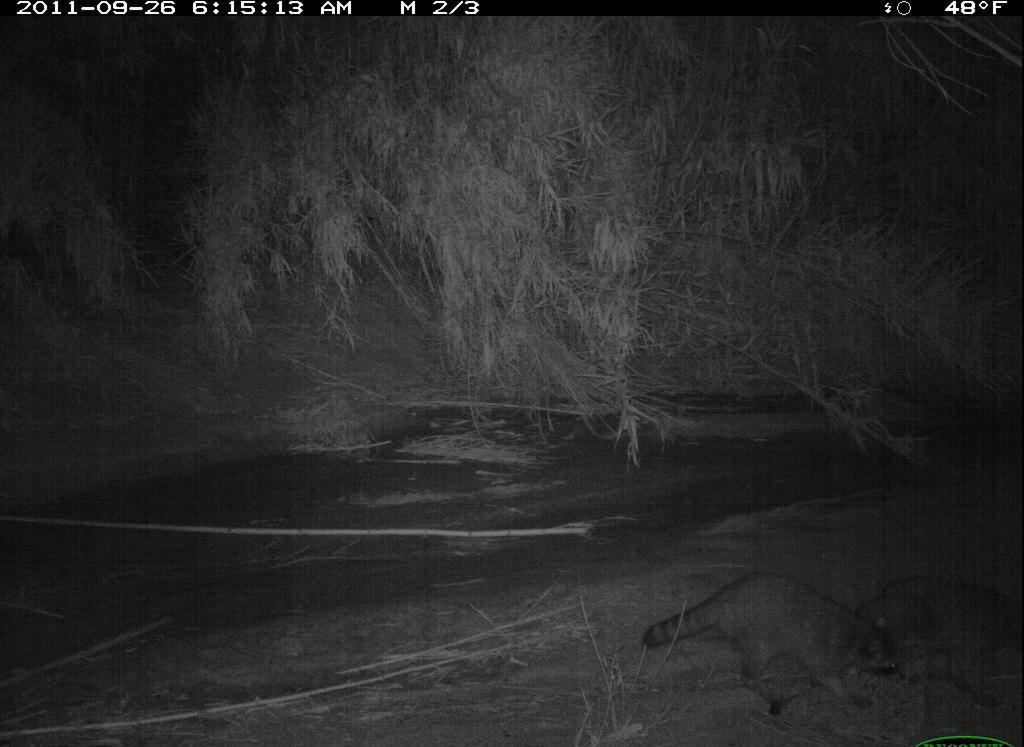raccoon: (637, 538, 918, 724)
